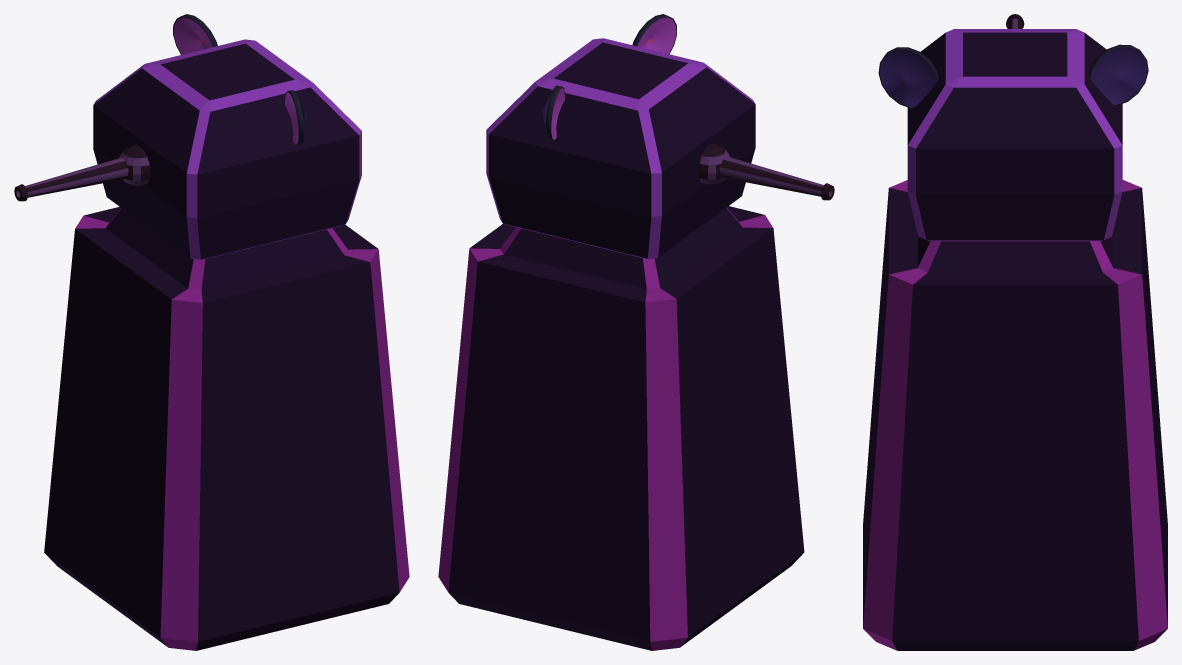
The model's file is Tower_T1.fbx.
The picture shows the model from 3 angles, left to right: view 1: azimuth 30°, elevation 25°; view 2: azimuth 150°, elevation 25°; view 3: azimuth 270°, elevation 25°; orthographic projection. The views are drawn at different scales.
Visible parts, largest first — view 1: TowerBaseT1, TowerHeadT1, TowerCannonT1, TowerEarsT1; view 2: TowerBaseT1, TowerHeadT1, TowerCannonT1, TowerEarsT1; view 3: TowerBaseT1, TowerHeadT1, TowerEarsT1.
Boxes of the visible parts, left/top/right/bottom form: TowerBaseT1: left=44, top=206, right=409, bottom=650; TowerHeadT1: left=93, top=39, right=361, bottom=260; TowerCannonT1: left=14, top=144, right=150, bottom=201; TowerEarsT1: left=173, top=14, right=307, bottom=145; TowerBaseT1: left=438, top=206, right=804, bottom=650; TowerHeadT1: left=486, top=38, right=755, bottom=259; TowerCannonT1: left=698, top=143, right=834, bottom=200; TowerEarsT1: left=542, top=14, right=676, bottom=141; TowerBaseT1: left=863, top=180, right=1167, bottom=650; TowerHeadT1: left=907, top=29, right=1122, bottom=241; TowerEarsT1: left=878, top=44, right=1148, bottom=108.
Size of the model in its own units: 119 by 179 by 89.07.
